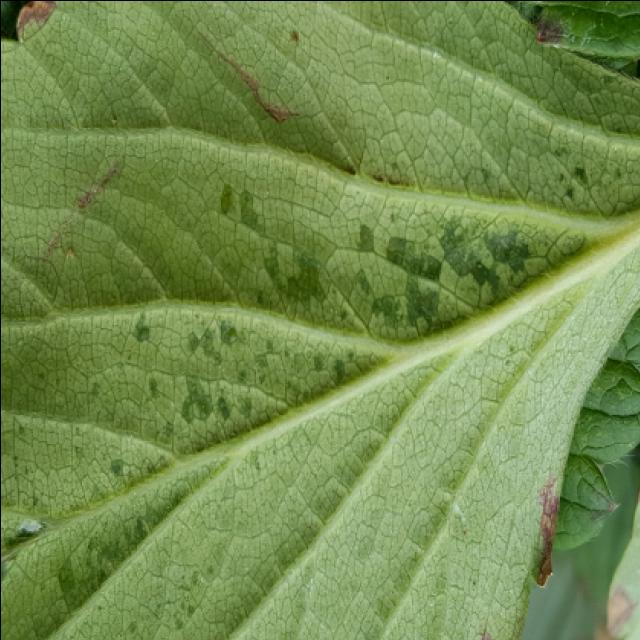Angular Leafspot: (2, 123, 640, 640)
